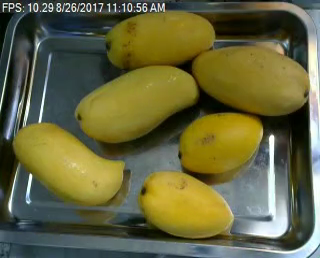Mango: (8, 118, 129, 209), (71, 62, 206, 141), (189, 40, 312, 118), (97, 6, 217, 70), (139, 168, 240, 244), (175, 109, 266, 177)
